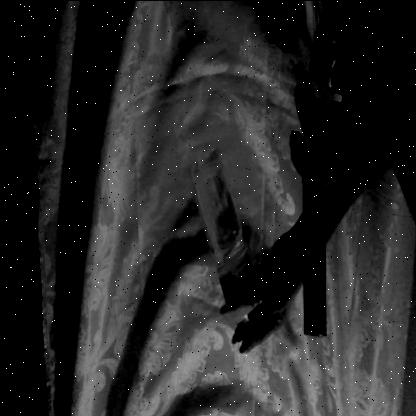Plastic Bottle: (178, 117, 274, 384)
